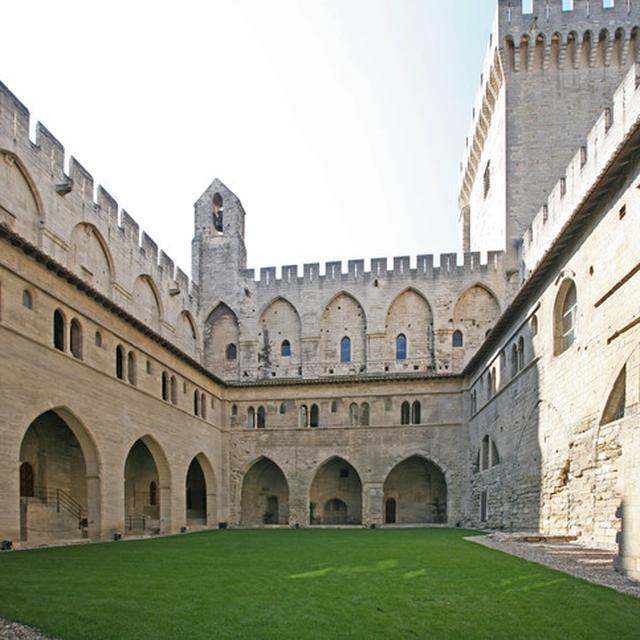building: (0, 82, 503, 562), (457, 2, 640, 588)
